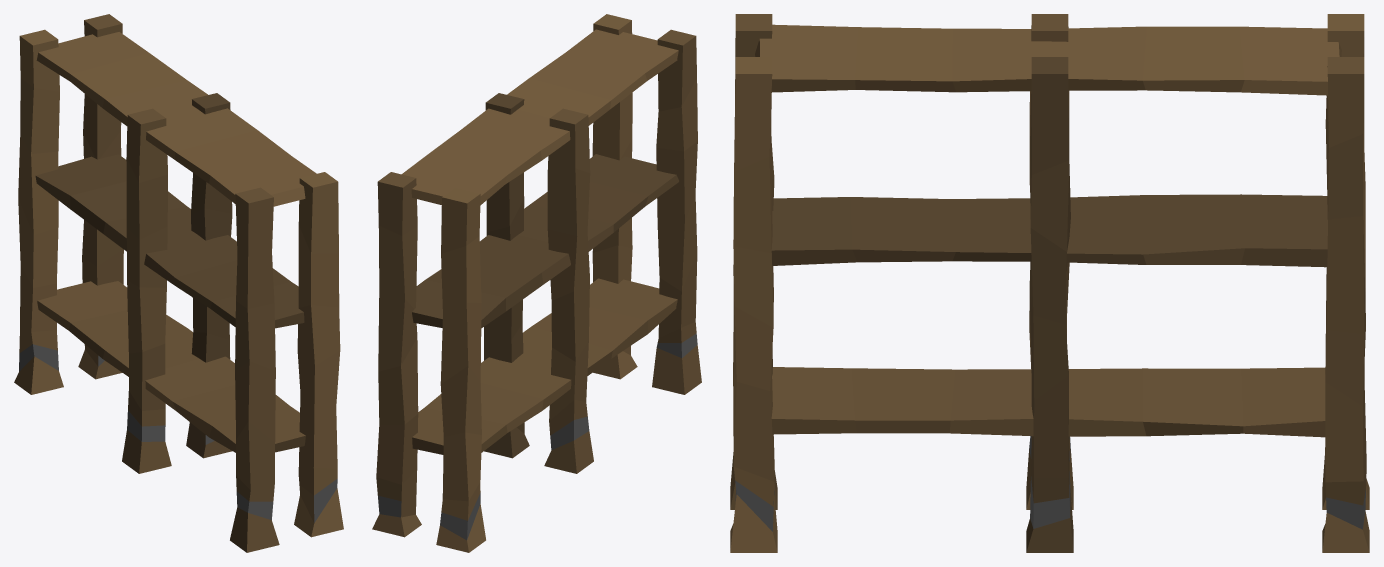
File: Shelf.fbx
3 renders of one model, left to right at view 1: azimuth 30°, elevation 25°; view 2: azimuth 150°, elevation 25°; view 3: azimuth 270°, elevation 25°, orthographic. The views are drawn at different scales.
Parts seen in each view (by area): view 1: Shelf; view 2: Shelf; view 3: Shelf.
Part boxes in pixels (x1=…): Shelf: x1=14, y1=14, x2=343, y2=552; Shelf: x1=372, y1=14, x2=701, y2=552; Shelf: x1=730, y1=14, x2=1369, y2=552.
Size of the model in its own units: 58.5 by 200 by 243.
